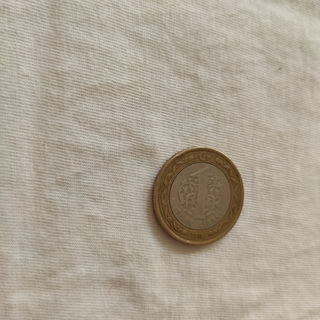1TL: (150, 144, 245, 248)
